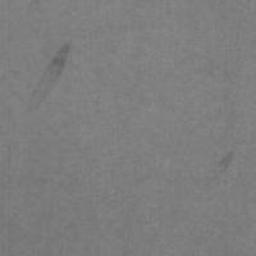Inclusion: (19, 38, 73, 118), (184, 150, 234, 201)
